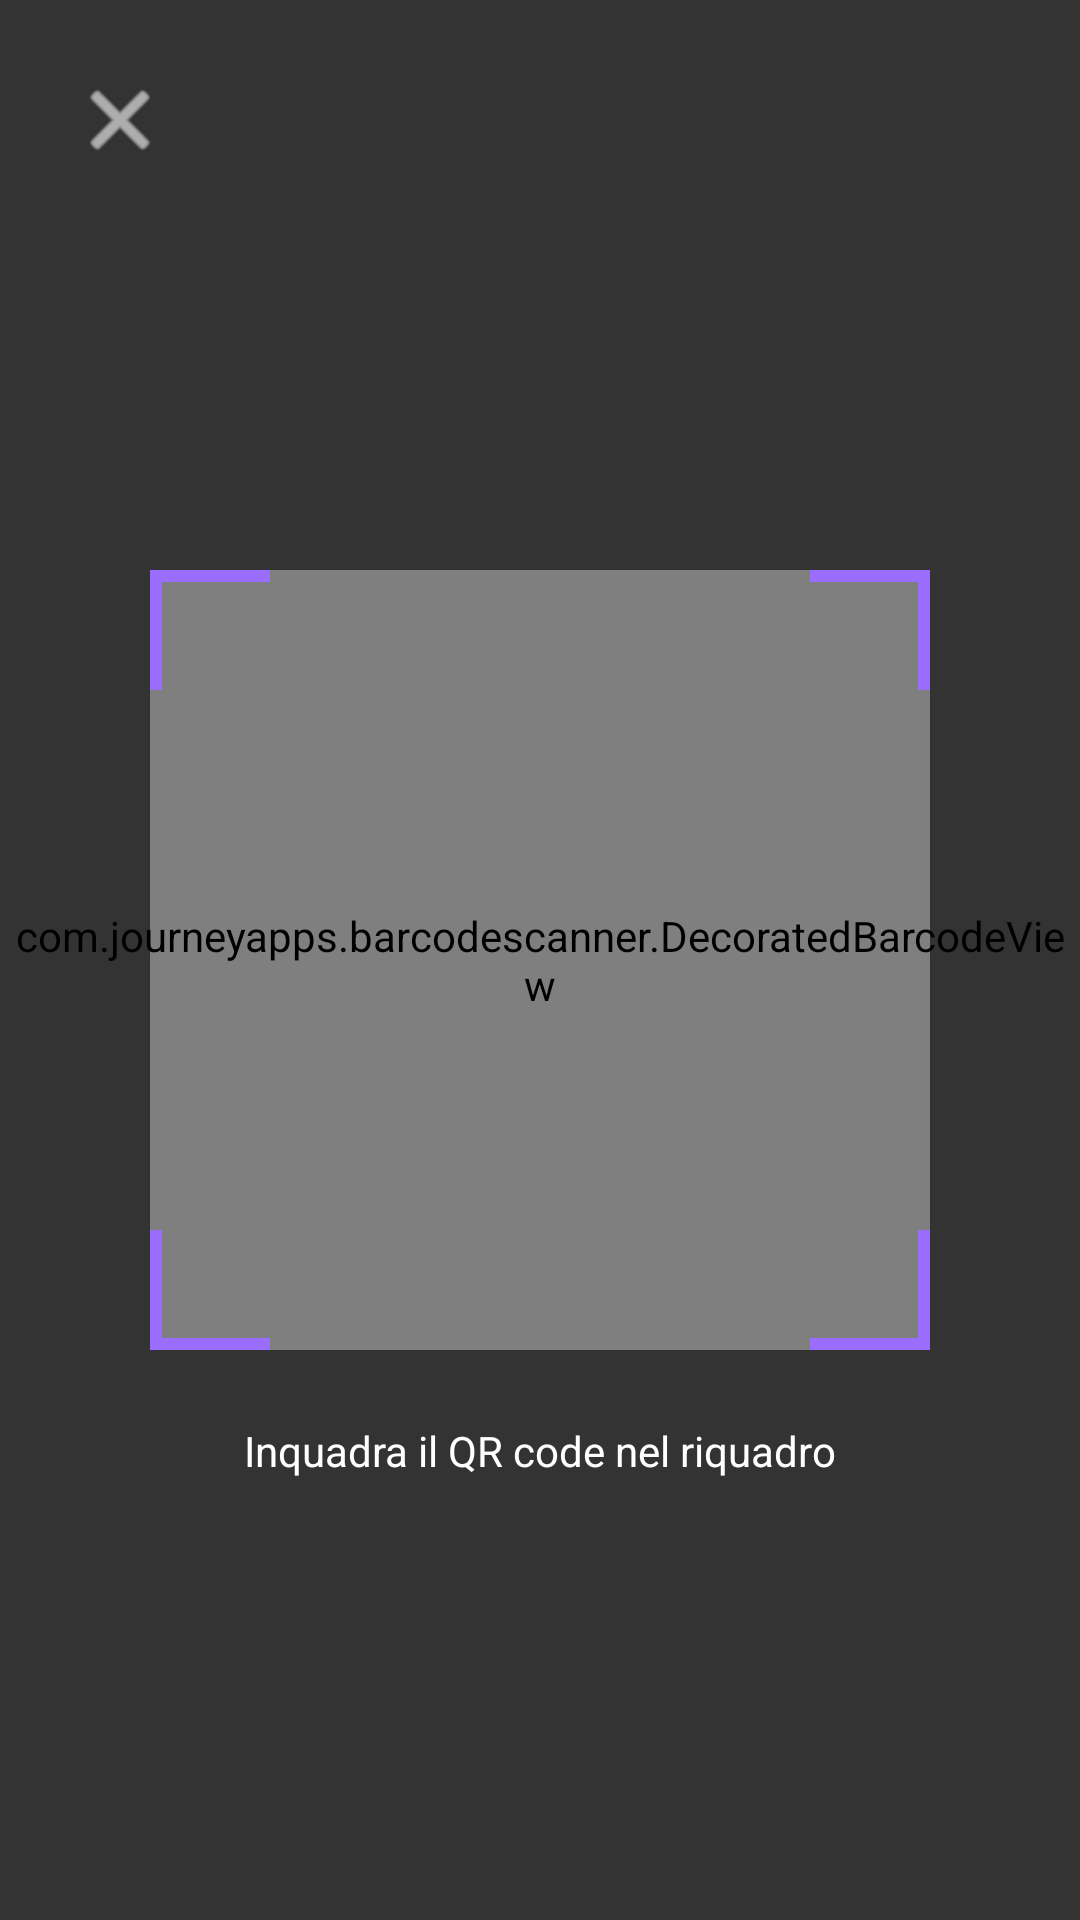

Icon bounding boxes for this 1080x1920 phone screenshot, format [x1,y1,x2,y2]:
Chiudi: [90,90,150,150]
